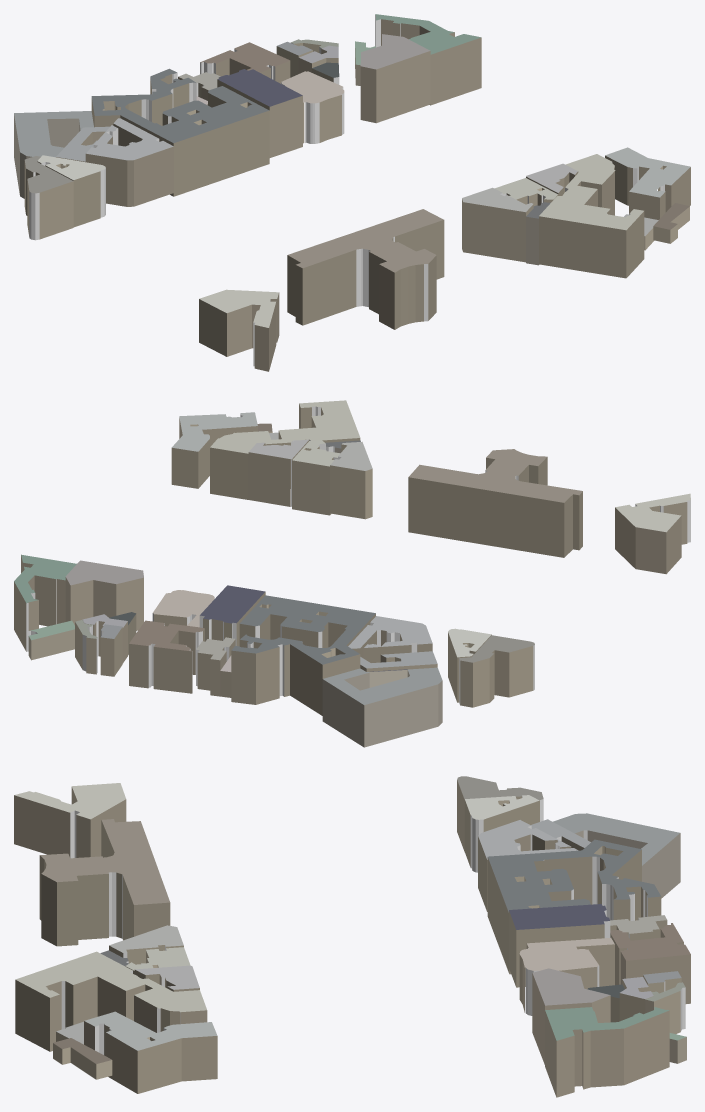
3 renders of one model, top to bottom at view 1: azimuth 30°, elevation 25°; view 2: azimuth 150°, elevation 25°; view 3: azimuth 270°, elevation 25°, orthographic. The views are drawn at different scales.
Parts seen in each view (by area): view 1: tuile; view 2: tuile; view 3: tuile.
Boxes of the visible parts, x1,y1,x2,y2 form: tuile: (14, 14, 690, 371); tuile: (14, 400, 690, 747); tuile: (14, 776, 690, 1097).
Size of the model in its own units: 280 by 36.61 by 284.
